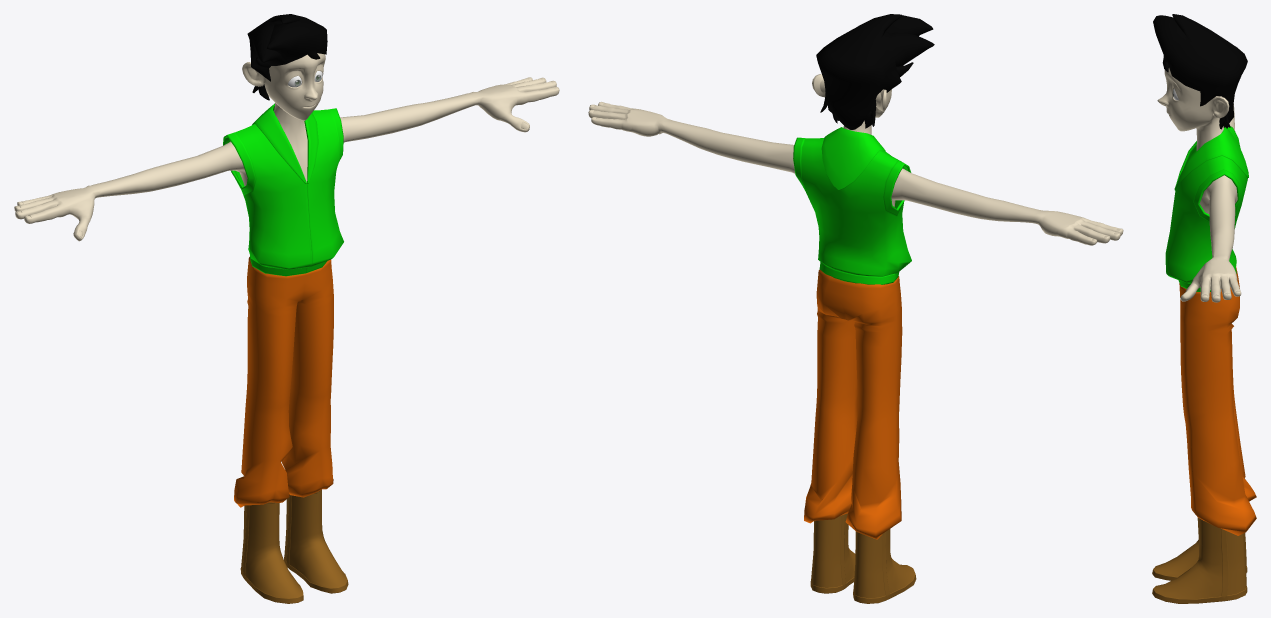
File: boy.fbx
The picture shows the model from 3 angles, left to right: view 1: azimuth 30°, elevation 25°; view 2: azimuth 150°, elevation 25°; view 3: azimuth 270°, elevation 25°; orthographic projection. The views are drawn at different scales.
Parts seen in each view (by area): view 1: Boy_pants_ply, Boy_body_ply, Boy_jacket_ply, Boy_shoeRgt_ply, Boy_shoeLft_ply, Boy_hair_ply; view 2: Boy_pants_ply, Boy_jacket_ply, Boy_body_ply, Boy_hair_ply, Boy_shoeRgt_ply, Boy_shoeLft_ply; view 3: Boy_pants_ply, Boy_jacket_ply, Boy_body_ply, Boy_hair_ply, Boy_shoeLft_ply, Boy_shoeRgt_ply.
Boxes of the visible parts, bbox=[...] form: Boy_pants_ply: bbox=[234, 257, 333, 507]; Boy_body_ply: bbox=[14, 53, 559, 241]; Boy_jacket_ply: bbox=[223, 103, 343, 276]; Boy_shoeRgt_ply: bbox=[240, 502, 303, 603]; Boy_shoeLft_ply: bbox=[284, 489, 348, 593]; Boy_hair_ply: bbox=[247, 14, 327, 100]; Boy_pants_ply: bbox=[804, 269, 902, 539]; Boy_jacket_ply: bbox=[793, 127, 911, 284]; Boy_body_ply: bbox=[588, 74, 1123, 245]; Boy_hair_ply: bbox=[816, 14, 934, 129]; Boy_shoeRgt_ply: bbox=[853, 529, 916, 603]; Boy_shoeLft_ply: bbox=[810, 513, 855, 593]; Boy_pants_ply: bbox=[1179, 266, 1256, 535]; Boy_jacket_ply: bbox=[1165, 126, 1248, 291]; Boy_body_ply: bbox=[1157, 68, 1241, 302]; Boy_hair_ply: bbox=[1153, 14, 1247, 129]; Boy_shoeLft_ply: bbox=[1152, 517, 1247, 603]; Boy_shoeRgt_ply: bbox=[1152, 533, 1247, 580].
Size of the model in its own units: 15.28 by 15.59 by 2.64.
